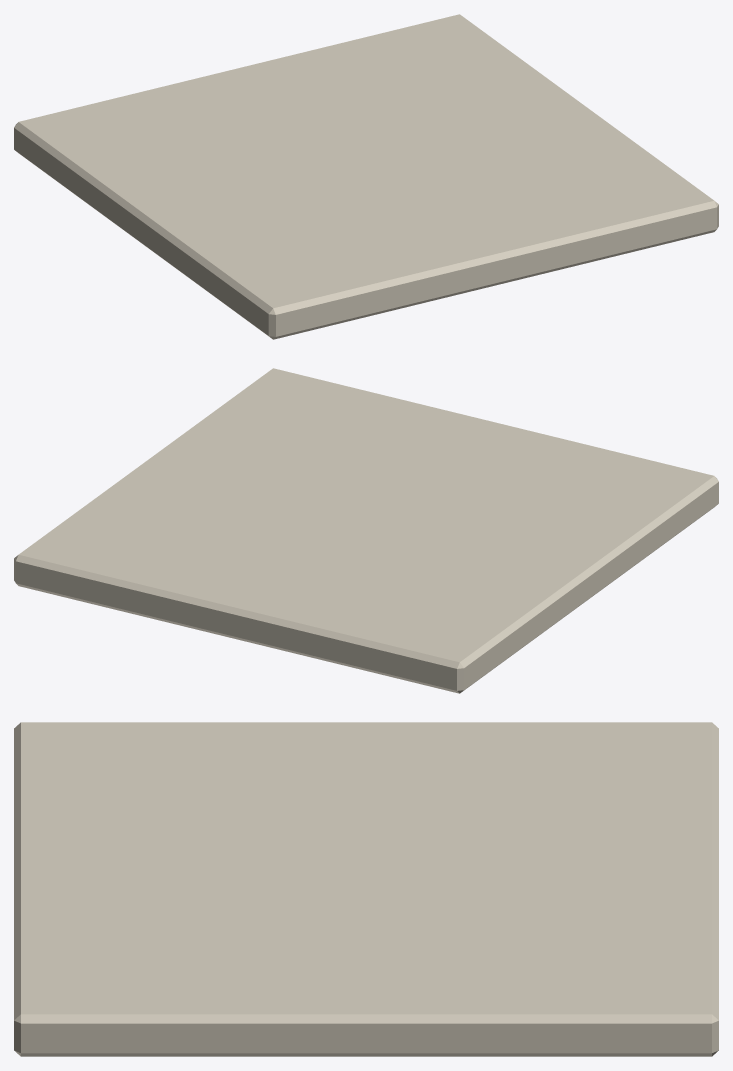
File: floor_tile.glb
3 renders of one model, top to bottom at view 1: azimuth 30°, elevation 25°; view 2: azimuth 150°, elevation 25°; view 3: azimuth 270°, elevation 25°, orthographic. The views are drawn at different scales.
Parts seen in each view (by area): view 1: floor_tile; view 2: floor_tile; view 3: floor_tile.
Part boxes in pixels (x1=…): floor_tile: x1=14, y1=14, x2=718, y2=339; floor_tile: x1=14, y1=368, x2=718, y2=693; floor_tile: x1=14, y1=722, x2=718, y2=1056.
Size of the model in its own units: 1.5 by 0.1 by 1.5.
